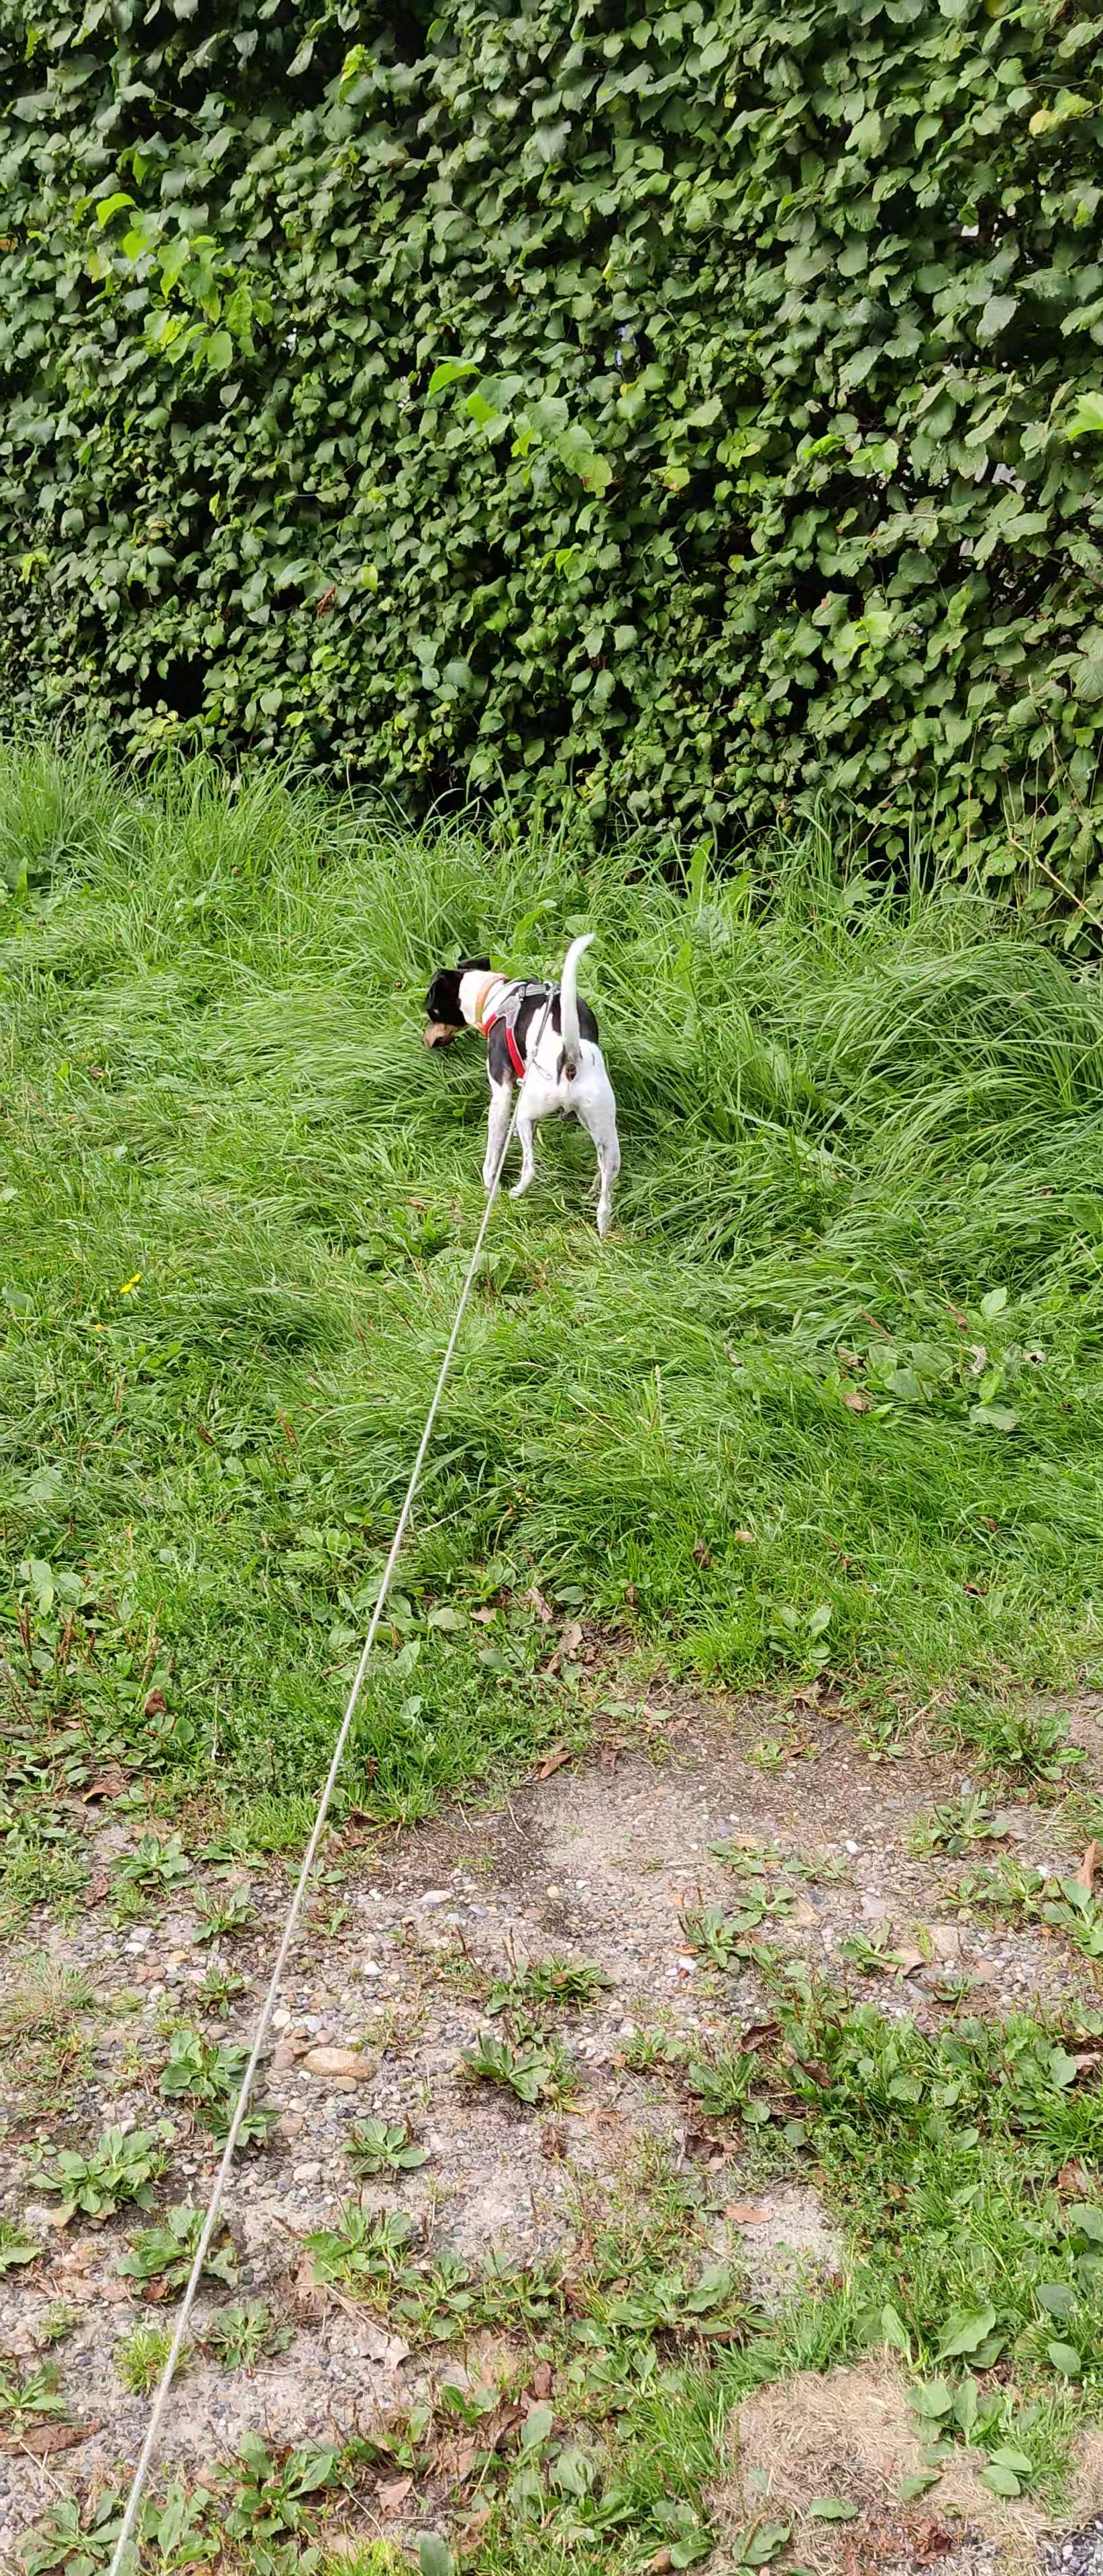Dog: (409, 917, 631, 1250)
